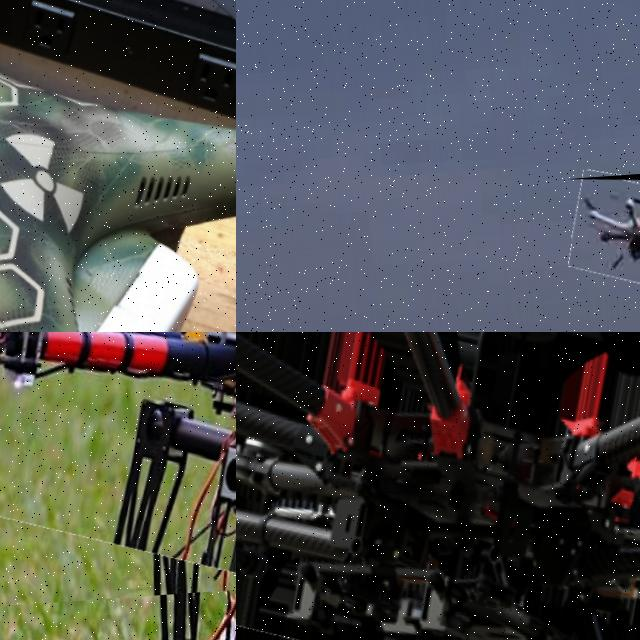drone: (236, 332, 640, 640), (0, 0, 236, 332), (0, 332, 236, 608), (567, 167, 640, 290)
